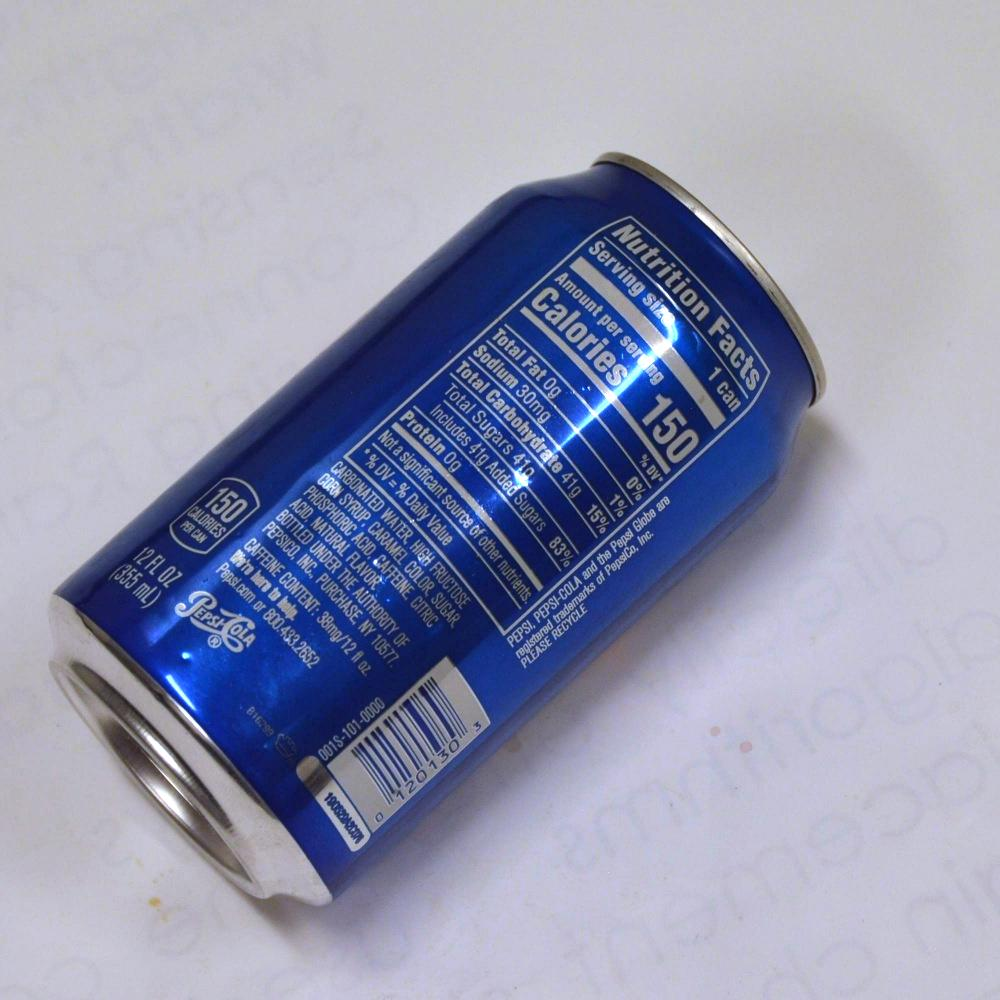Metal: (60, 97, 793, 872)
